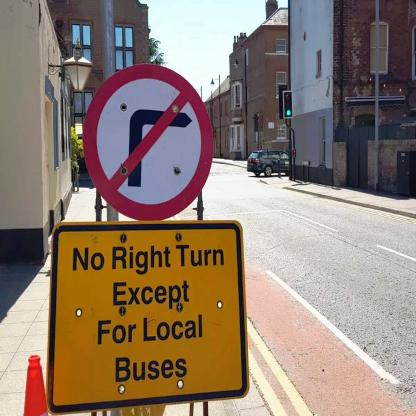No right turn: (87, 57, 211, 222)
